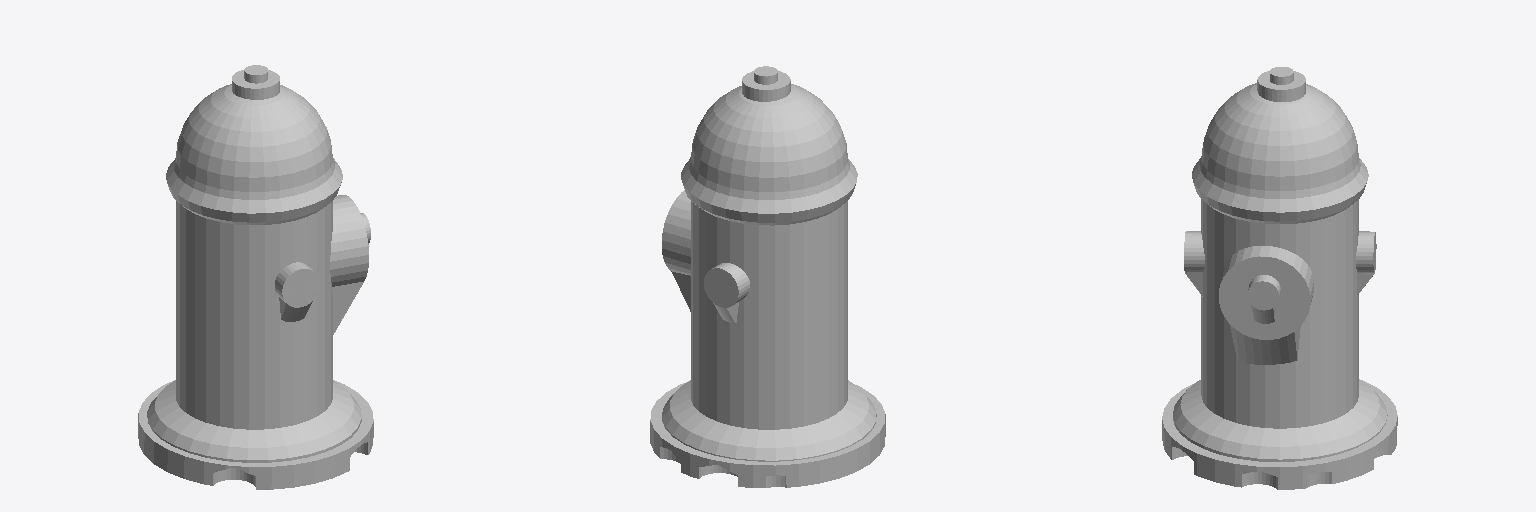
File: firehydrant.obj
The picture shows the model from 3 angles: view 1: azimuth 30°, elevation 25°; view 2: azimuth 150°, elevation 25°; view 3: azimuth 270°, elevation 25°; orthographic projection.
Parts seen in each view (by area): view 1: Cylinder.003_Cylinder.004; view 2: Cylinder.003_Cylinder.004; view 3: Cylinder.003_Cylinder.004.
Boxes of the visible parts, <box> form: Cylinder.003_Cylinder.004: <box>138,65,373,489</box>; Cylinder.003_Cylinder.004: <box>650,66,885,487</box>; Cylinder.003_Cylinder.004: <box>1162,67,1397,489</box>.
Size of the model in its own units: 0.028 by 0.0485 by 0.028.